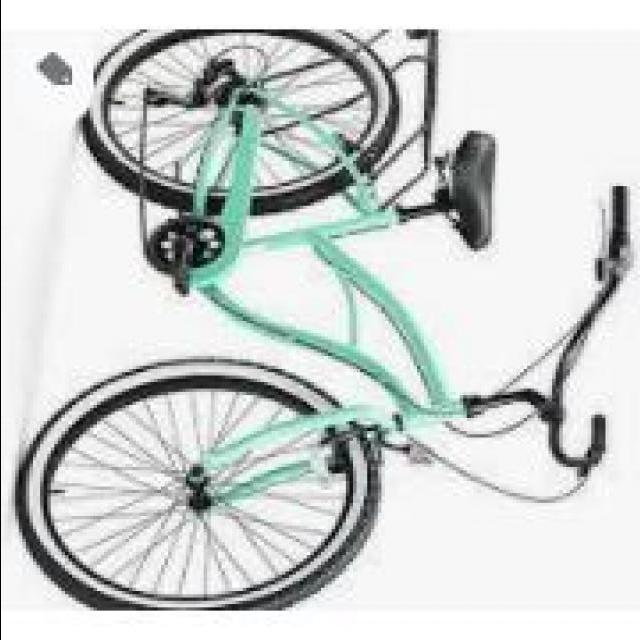bicycle: (30, 30, 616, 614)
